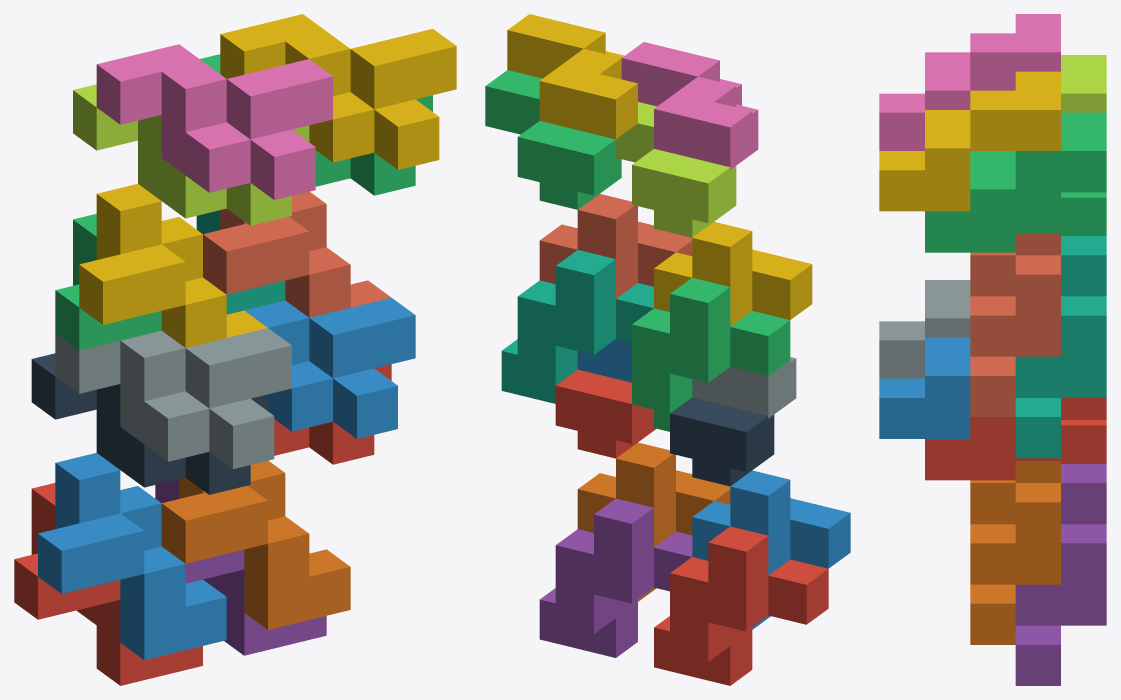
File: tiling.obj
3 views of the same model, side by side, from view 1: azimuth 30°, elevation 25°; view 2: azimuth 150°, elevation 25°; view 3: azimuth 270°, elevation 25° (orthographic). The views are drawn at different scales.
Visible parts, largest first — view 1: copy_2_domain_4, copy_2_domain_2, copy_1_domain_2, copy_2_domain_8, copy_1_domain_6, copy_1_domain_4, copy_2_domain_6, copy_1_domain_8, copy_1_domain_1, copy_2_domain_1, copy_2_domain_3, copy_1_domain_5 (+4 smaller); view 2: copy_1_domain_1, copy_1_domain_5, copy_1_domain_3, copy_1_domain_7, copy_2_domain_4, copy_2_domain_8, copy_2_domain_7, copy_1_domain_2, copy_1_domain_4, copy_2_domain_3, copy_1_domain_6, copy_1_domain_8 (+4 smaller); view 3: copy_2_domain_7, copy_2_domain_8, copy_1_domain_6, copy_1_domain_8, copy_1_domain_7, copy_1_domain_5, copy_2_domain_4, copy_2_domain_6, copy_2_domain_5, copy_2_domain_2, copy_2_domain_3, copy_1_domain_1 (+1 smaller).
Part boxes in pixels (<box>): copy_2_domain_4: <box>96,44,332,199</box>; copy_2_domain_2: <box>55,328,291,469</box>; copy_1_domain_2: <box>38,453,226,660</box>; copy_2_domain_8: <box>220,14,456,169</box>; copy_1_domain_6: <box>161,460,350,629</box>; copy_1_domain_4: <box>79,184,267,347</box>; copy_2_domain_6: <box>244,297,415,438</box>; copy_1_domain_8: <box>203,191,391,317</box>; copy_1_domain_1: <box>14,483,202,685</box>; copy_2_domain_1: <box>31,353,267,494</box>; copy_2_domain_3: <box>73,84,309,225</box>; copy_1_domain_5: <box>155,479,326,655</box>; copy_1_domain_1: <box>654,526,828,685</box>; copy_1_domain_5: <box>539,498,692,657</box>; copy_1_domain_3: <box>632,277,790,431</box>; copy_1_domain_7: <box>501,250,653,403</box>; copy_2_domain_4: <box>621,42,758,169</box>; copy_2_domain_8: <box>507,14,637,139</box>; copy_2_domain_7: <box>485,70,621,209</box>; copy_1_domain_2: <box>692,470,850,629</box>; copy_1_domain_4: <box>654,221,812,326</box>; copy_2_domain_3: <box>616,102,736,237</box>; copy_1_domain_6: <box>577,442,730,601</box>; copy_1_domain_8: <box>539,194,692,298</box>; copy_2_domain_7: <box>925,112,1106,252</box>; copy_2_domain_8: <box>879,71,1060,211</box>; copy_1_domain_6: <box>970,461,1060,644</box>; copy_1_domain_8: <box>970,233,1060,416</box>; copy_1_domain_7: <box>1015,236,1106,458</box>; copy_1_domain_5: <box>1015,464,1106,685</box>; copy_2_domain_4: <box>879,14,1060,150</box>; copy_2_domain_6: <box>879,337,970,438</box>; copy_2_domain_5: <box>925,398,1106,480</box>; copy_2_domain_2: <box>879,280,970,378</box>; copy_2_domain_3: <box>1061,55,1106,112</box>; copy_1_domain_1: <box>1061,420,1106,463</box>.
Bounding box in the file's own units: 9 × 14 × 5.
